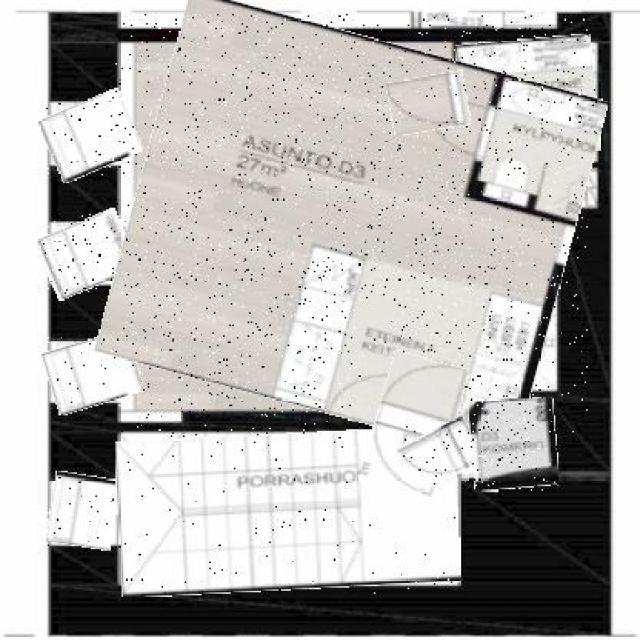door: (368, 354, 460, 497), (402, 423, 482, 485), (389, 72, 469, 132)
window: (43, 96, 139, 176), (40, 214, 135, 294), (46, 336, 140, 410), (48, 474, 119, 548)
zone: (115, 14, 588, 437), (117, 429, 458, 594), (458, 37, 597, 160), (469, 400, 557, 492)
